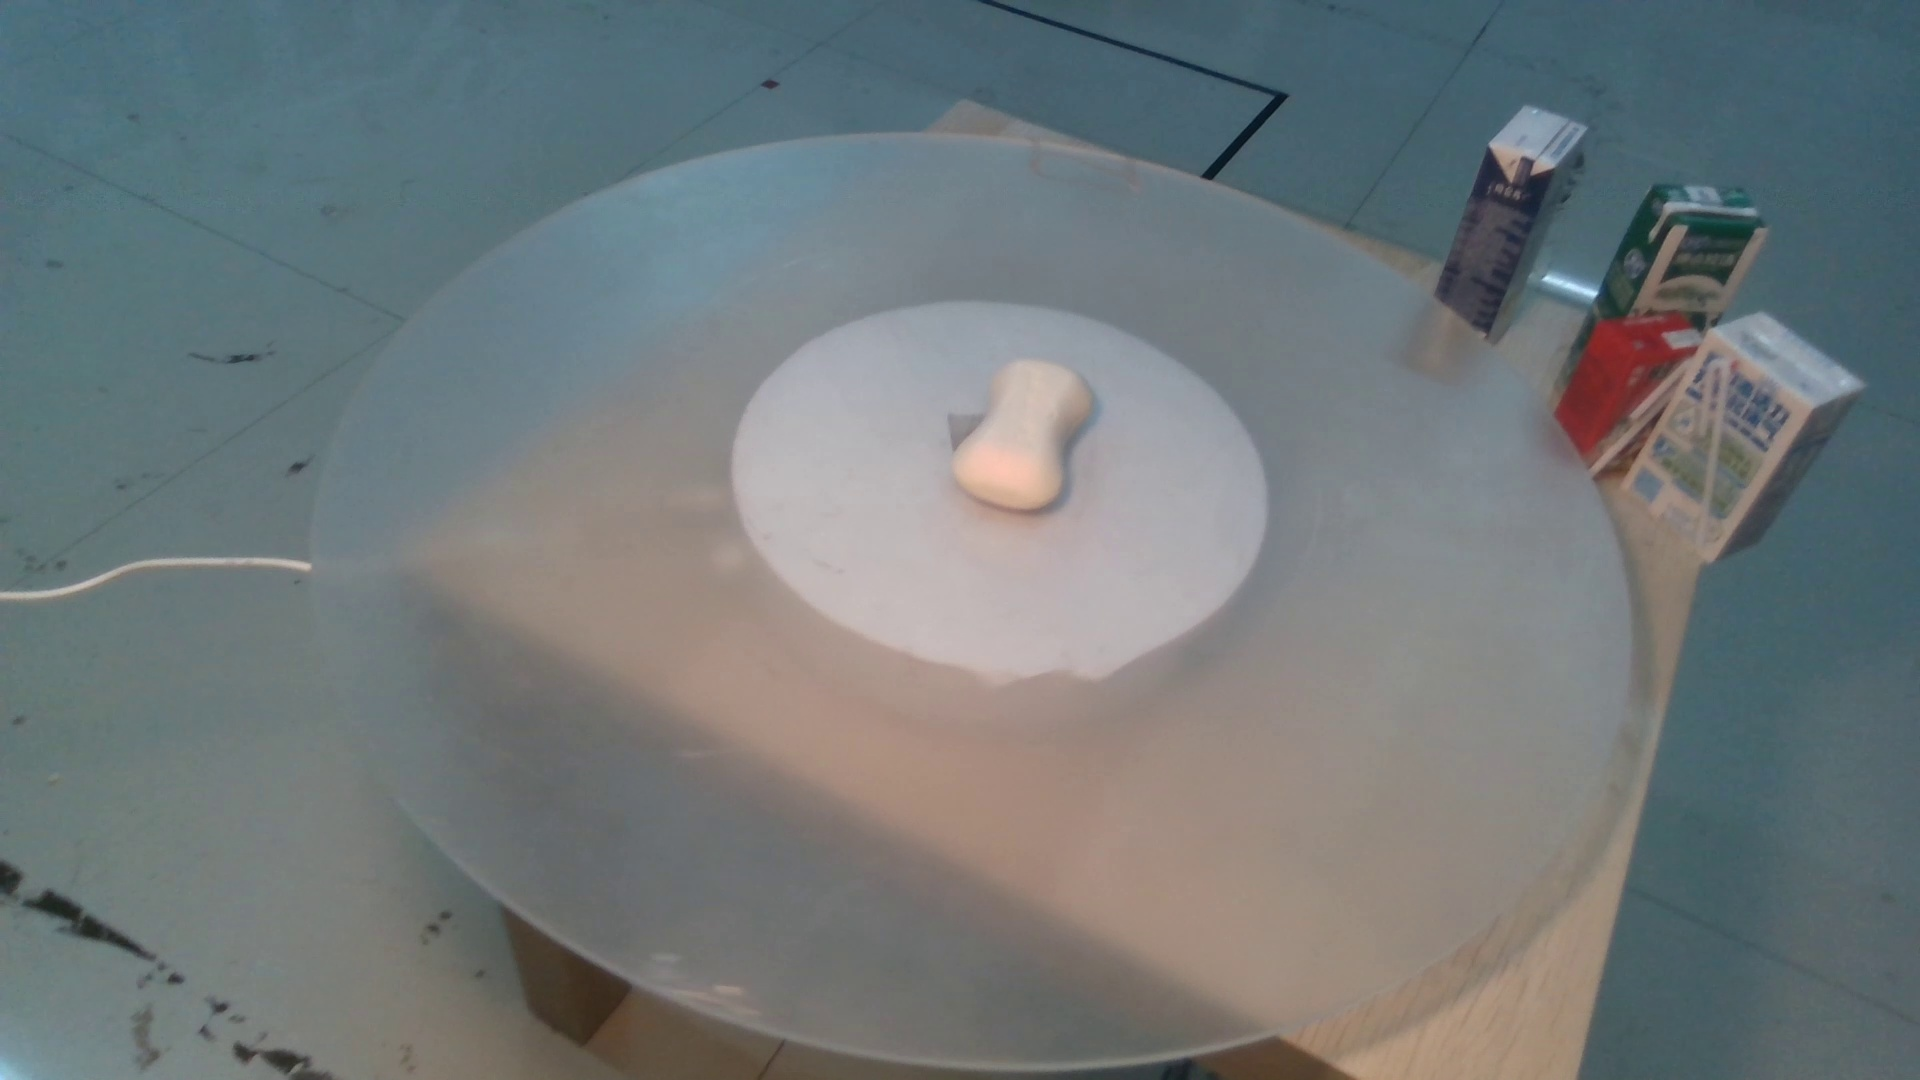CA003_1: (928, 352, 1116, 512)
